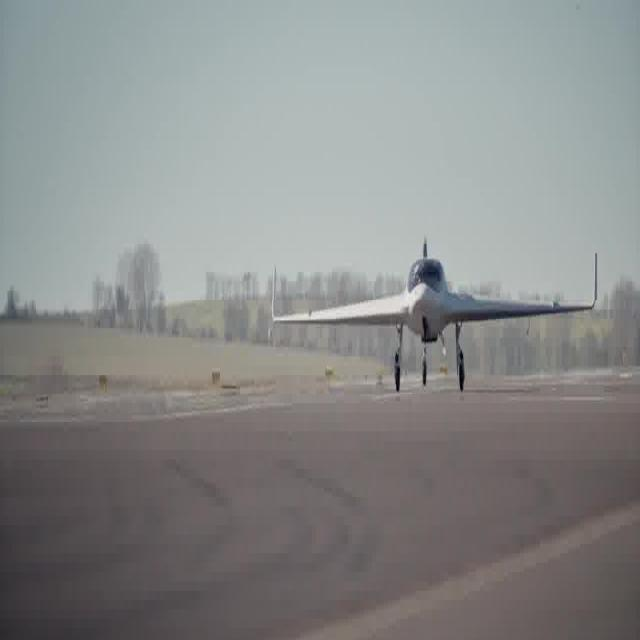iha: (260, 224, 606, 396)
